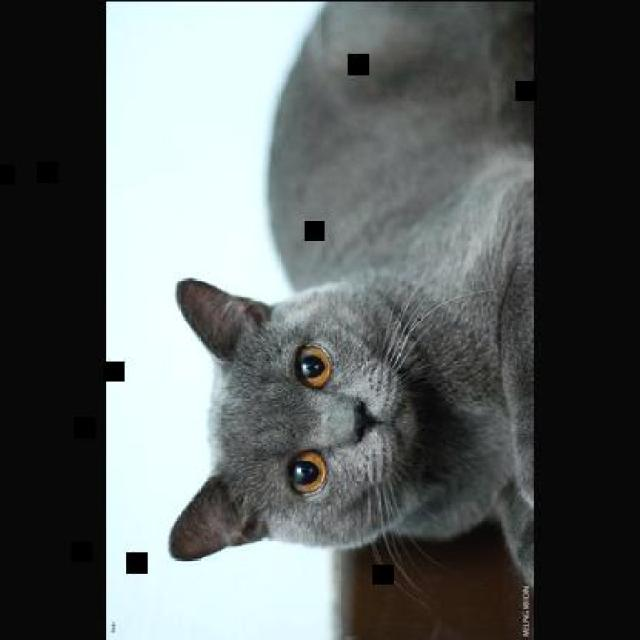unauthorized: (166, 0, 534, 603)
